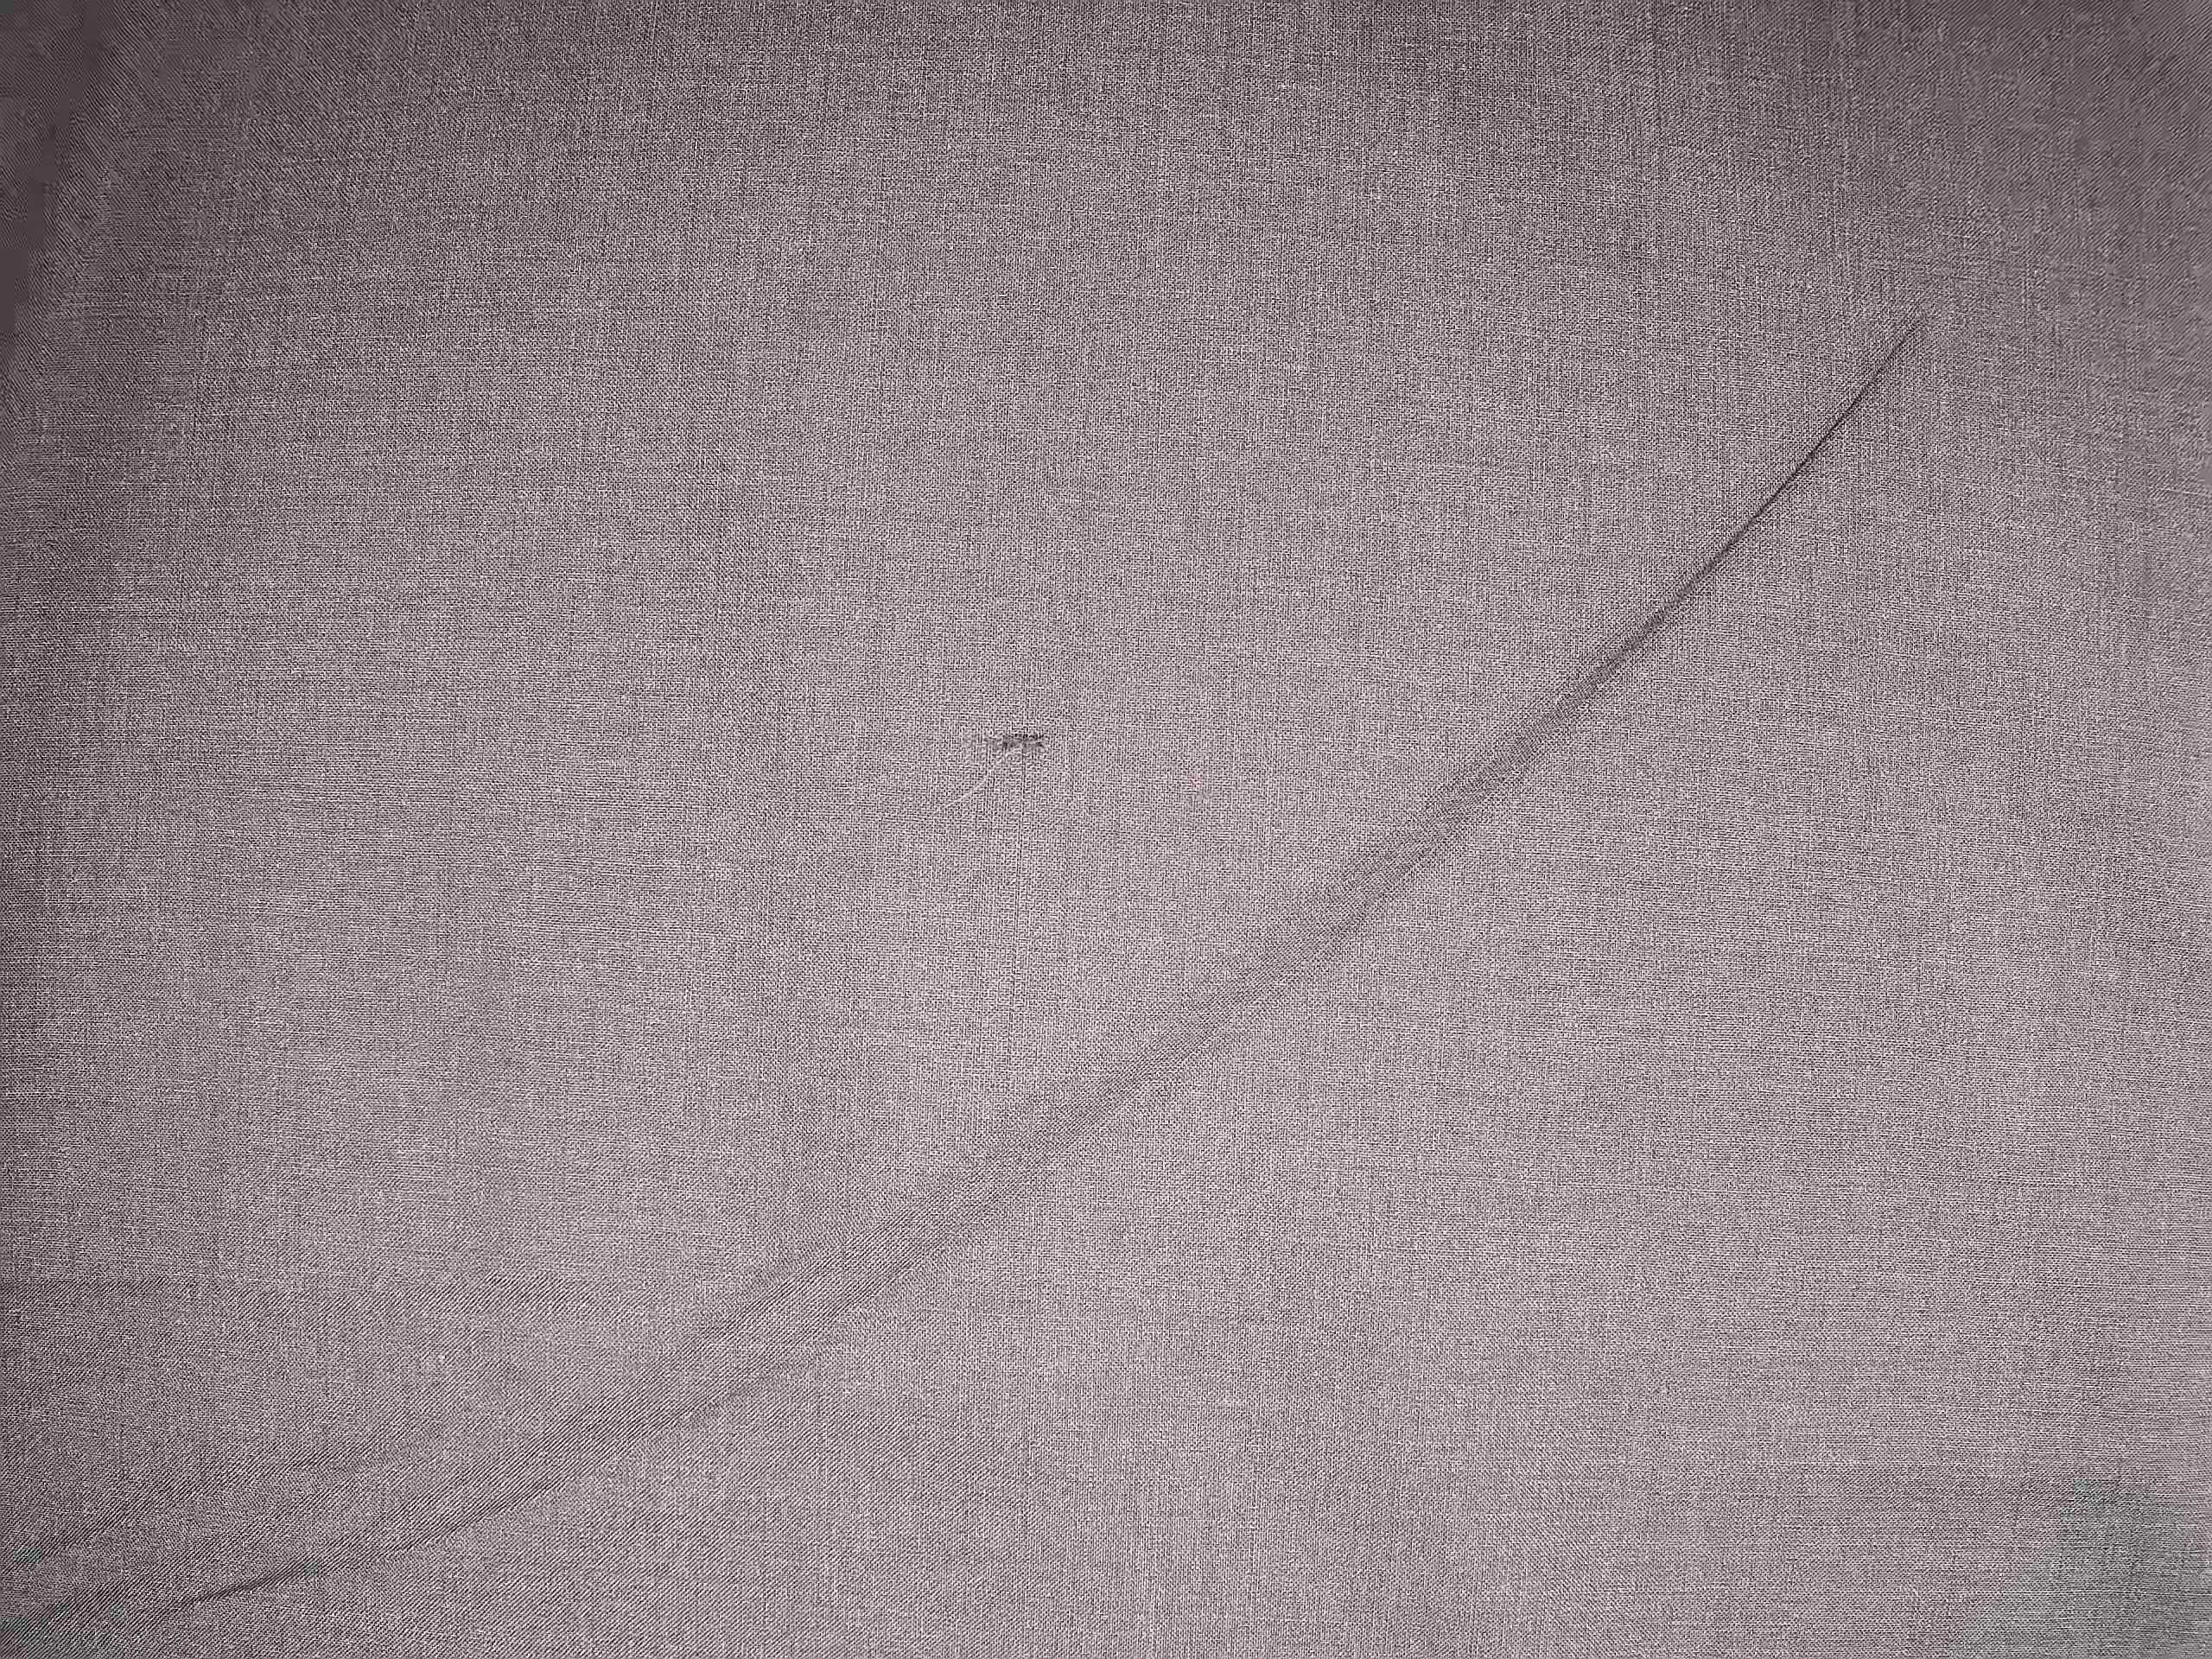hanging-warp: (970, 704, 1068, 1253)
